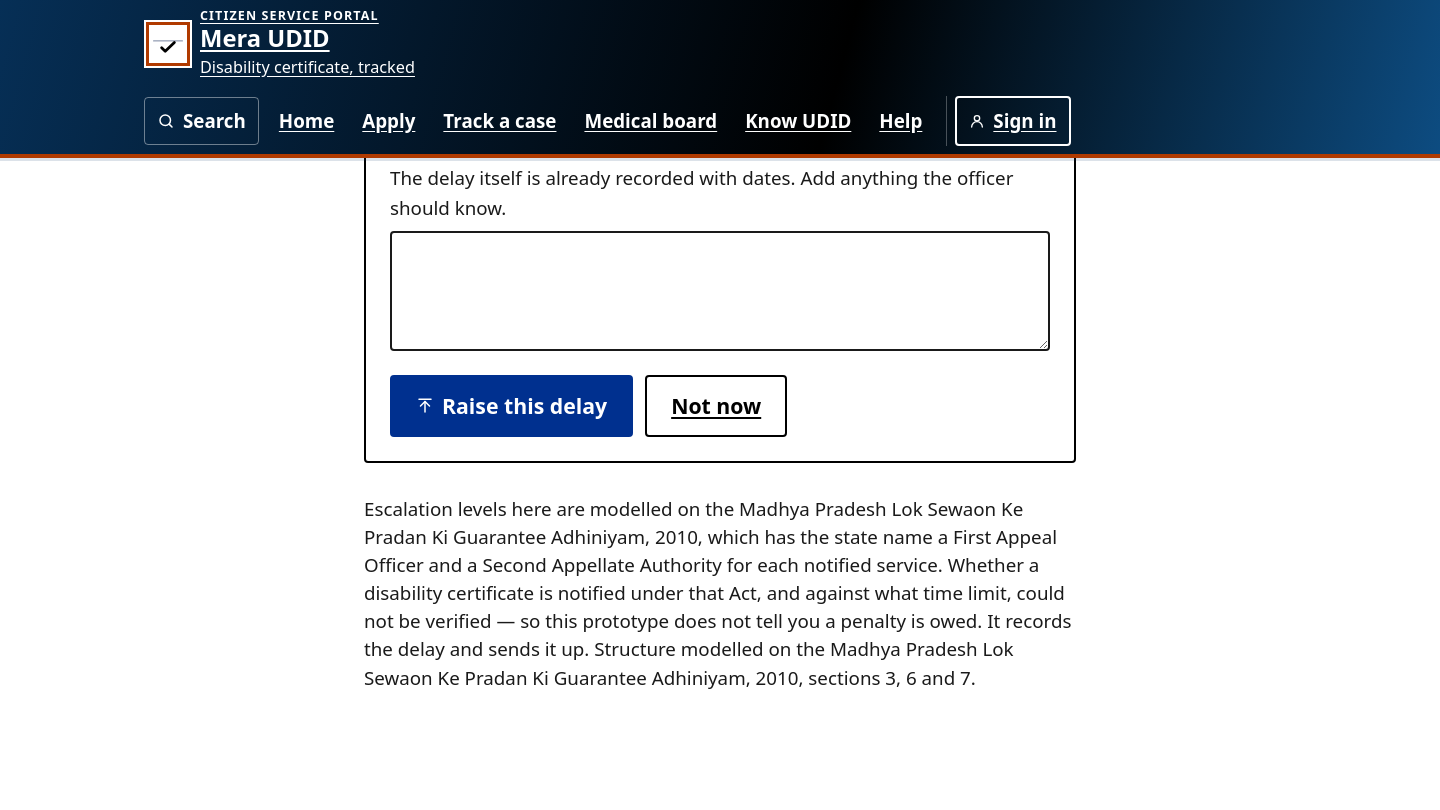
the statutory time limit, and raising a delay › records the escalation on the case, naming the authority it went to
This screenshot has width=1440, height=810.
(page scrolled)
Step 1. Click the button "Raise this delay" → (512, 406), box [390,375,633,437]
(page scrolled)
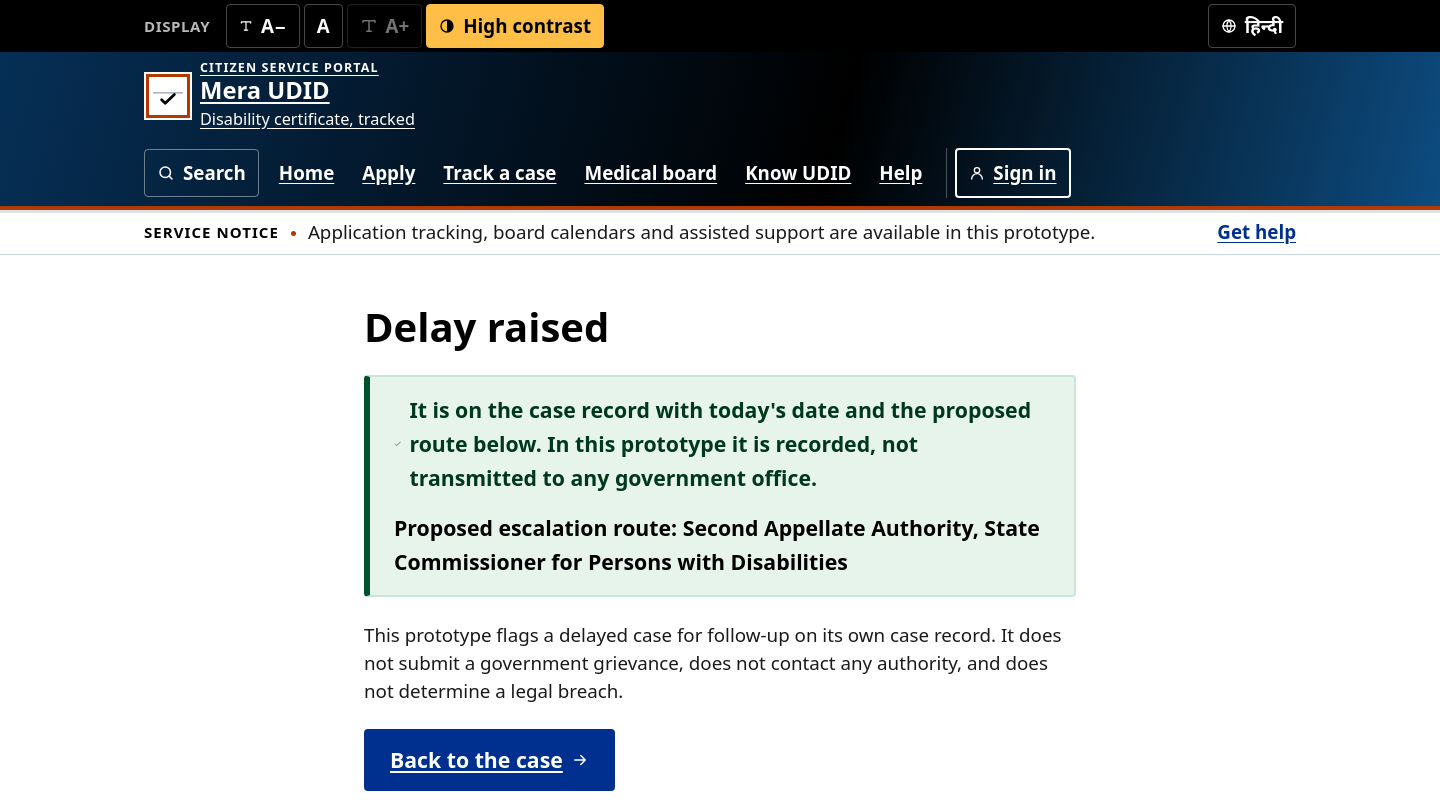
Expected: the heading "Delay raised" is shown, [364,298,609,354]
